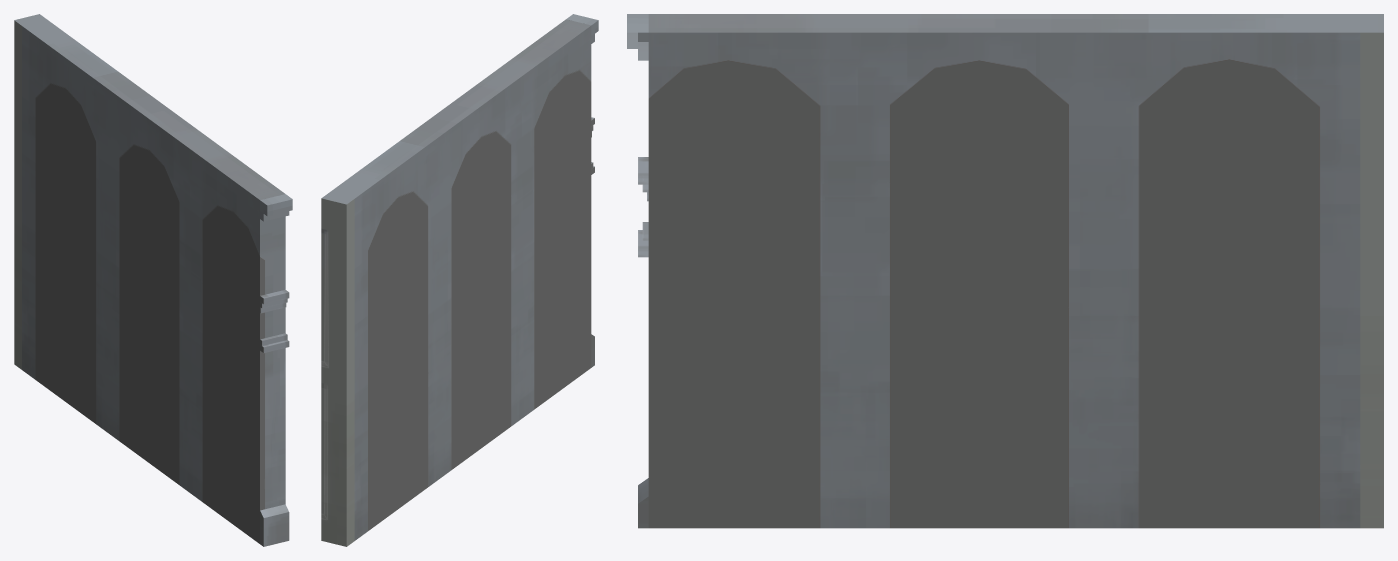
File: Building_WallEnd_Variation_1.fbx
The picture shows the model from 3 angles, left to right: view 1: azimuth 30°, elevation 25°; view 2: azimuth 150°, elevation 25°; view 3: azimuth 270°, elevation 25°; orthographic projection. The views are drawn at different scales.
Parts seen in each view (by area): view 1: Building_Wall_Variation1; view 2: Building_Wall_Variation1; view 3: Building_Wall_Variation1.
Part boxes in pixels (box(x1,y1,x2,y2)): Building_Wall_Variation1: box(14, 14, 292, 546); Building_Wall_Variation1: box(321, 14, 598, 546); Building_Wall_Variation1: box(627, 14, 1383, 528).
Bounding box in the file's own units: 23.25 × 300 × 400.
